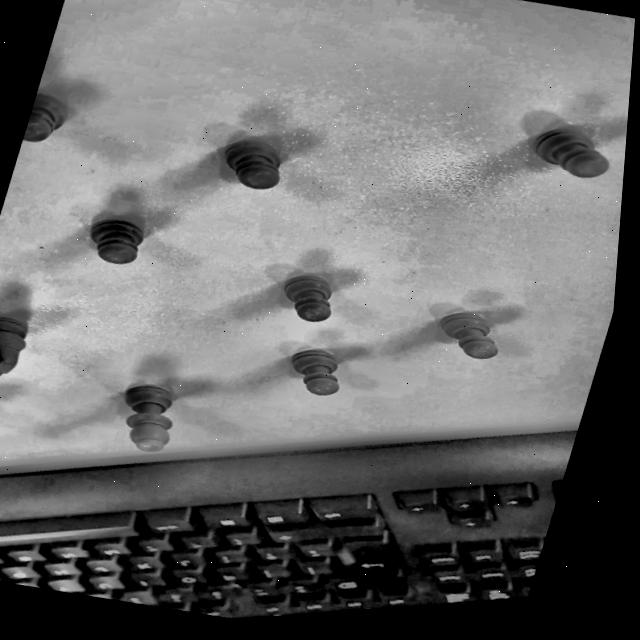white-bishop: (108, 363, 194, 464), (0, 370, 10, 468)
white-knight: (0, 288, 57, 388)
white-pawn: (507, 88, 630, 210), (204, 114, 307, 206), (265, 248, 358, 337), (433, 289, 516, 375), (75, 199, 163, 280), (272, 328, 361, 407), (18, 74, 92, 163)
